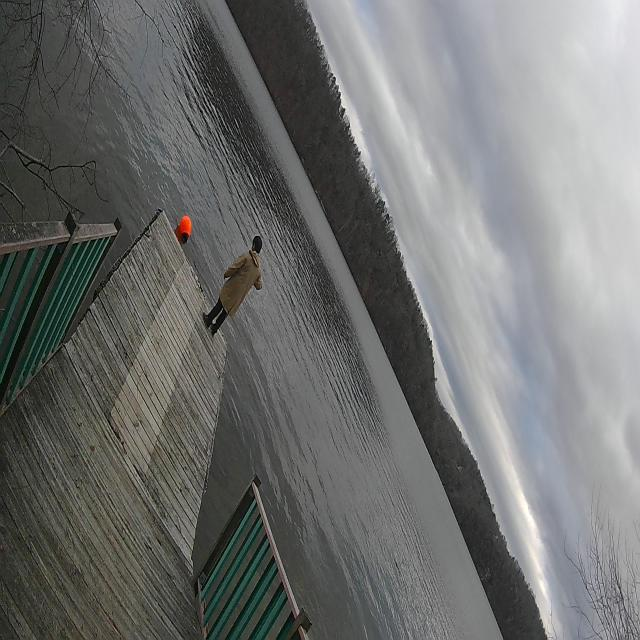Buoy: (178, 211, 193, 246)
